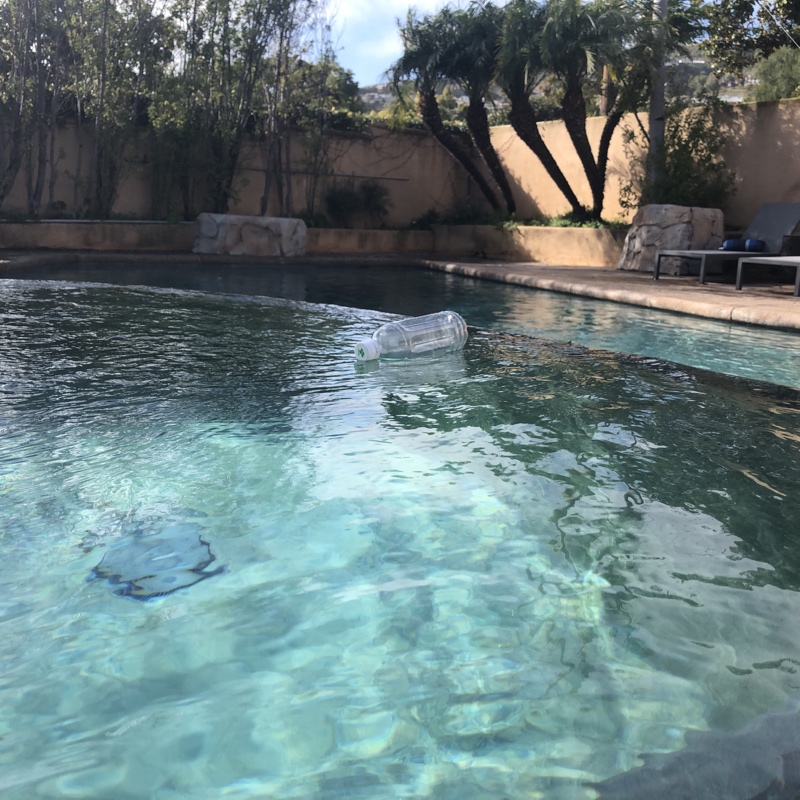Plastic Bottle: (349, 309, 470, 368)
